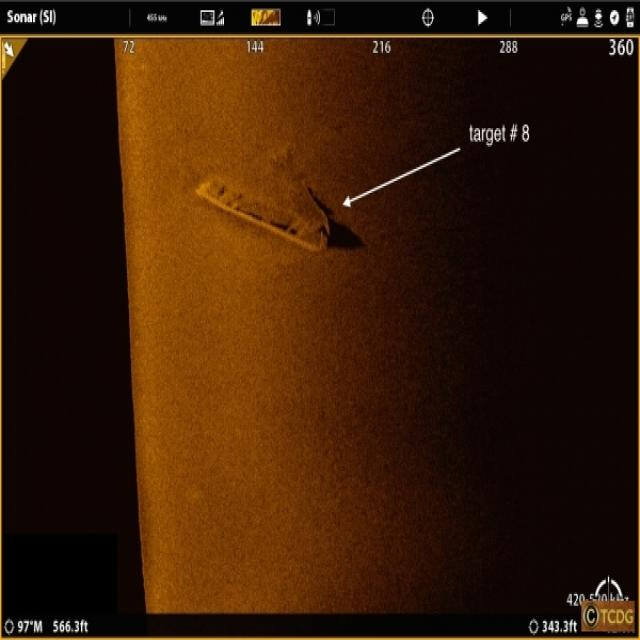ship: (195, 152, 333, 256)
